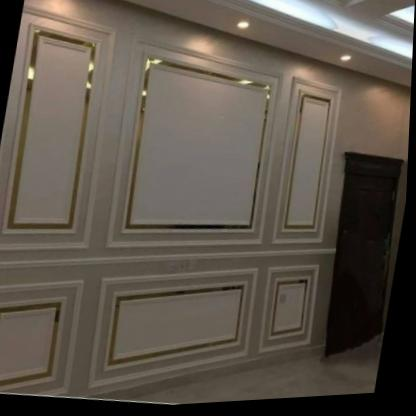Futec frame: (95, 26, 297, 275), (0, 0, 133, 270), (81, 248, 267, 412), (264, 74, 357, 259), (0, 262, 93, 402), (253, 252, 325, 369)
